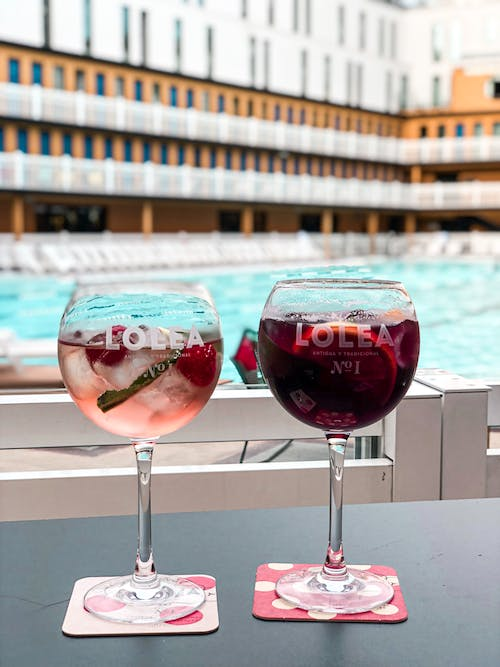alcohol: (56, 275, 224, 626), (256, 276, 423, 612)
